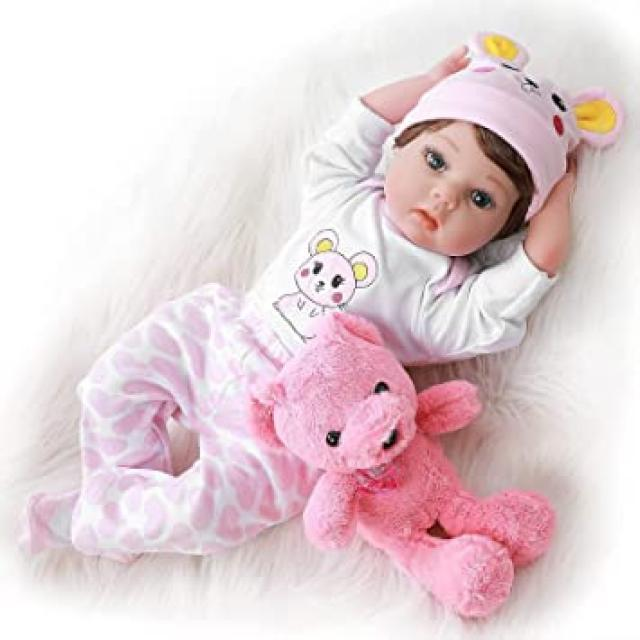non-dog: (249, 310, 556, 619)
